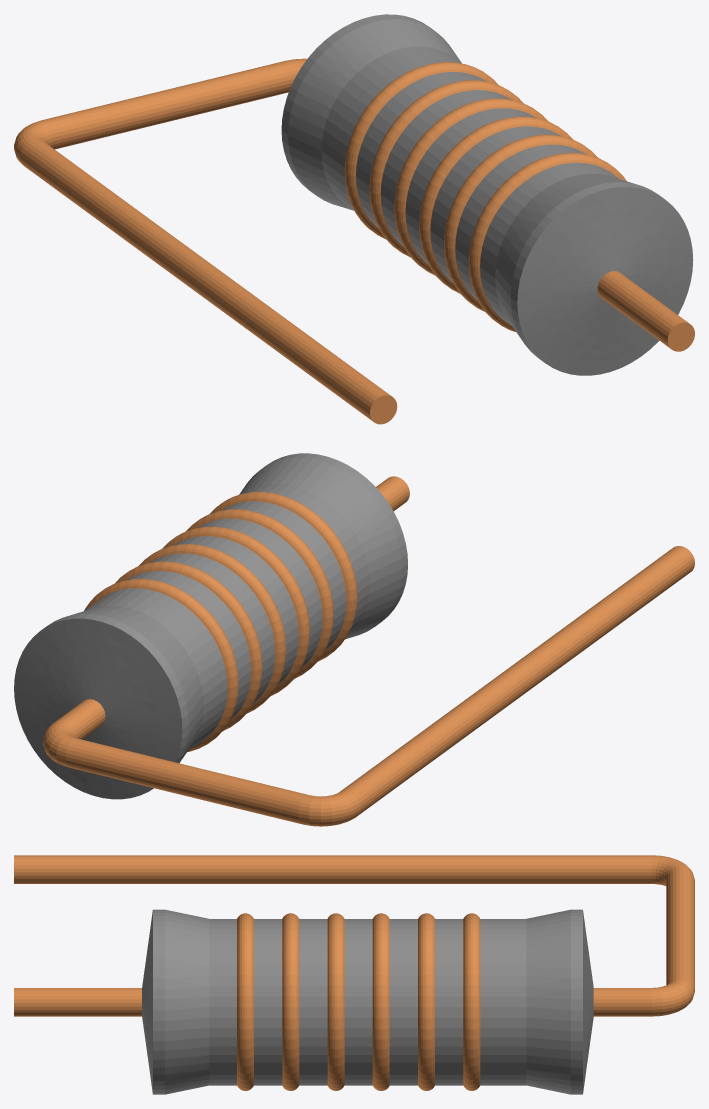
Rendered from L_Axial_L11.0mm_D4.5mm_P7.62mm_Vertical_Fastron_MECC.glb.
The picture shows the model from 3 angles, top to bottom: view 1: azimuth 30°, elevation 25°; view 2: azimuth 150°, elevation 25°; view 3: azimuth 270°, elevation 25°; orthographic projection. The views are drawn at different scales.
Visible parts, largest first — view 1: Shape_IndexedFaceSet.002, Shape_IndexedFaceSet.025, Shape_IndexedFaceSet.018, Shape_IndexedFaceSet.023, Shape_IndexedFaceSet.017, Shape_IndexedFaceSet.004, Shape_IndexedFaceSet.005, Shape_IndexedFaceSet.011, Shape_IndexedFaceSet.006, Shape_IndexedFaceSet.007, Shape_IndexedFaceSet.015, Shape_IndexedFaceSet.013 (+12 smaller); view 2: Shape_IndexedFaceSet.020, Shape_IndexedFaceSet.025, Shape_IndexedFaceSet.004, Shape_IndexedFaceSet.023, Shape_IndexedFaceSet.017, Shape_IndexedFaceSet.018, Shape_IndexedFaceSet.016, Shape_IndexedFaceSet.009, Shape_IndexedFaceSet.007, Shape_IndexedFaceSet.015, Shape_IndexedFaceSet.013, Shape_IndexedFaceSet.011 (+12 smaller); view 3: Shape_IndexedFaceSet.025, Shape_IndexedFaceSet.018, Shape_IndexedFaceSet.004, Shape_IndexedFaceSet.017, Shape_IndexedFaceSet.007, Shape_IndexedFaceSet.009, Shape_IndexedFaceSet.011, Shape_IndexedFaceSet.013, Shape_IndexedFaceSet.015, Shape_IndexedFaceSet.005, Shape_IndexedFaceSet.001, Shape_IndexedFaceSet.023 (+13 smaller).
Part boxes in pixels (bbox=[...]): Shape_IndexedFaceSet.002: bbox=[517, 187, 693, 375]; Shape_IndexedFaceSet.025: bbox=[20, 139, 390, 421]; Shape_IndexedFaceSet.018: bbox=[288, 19, 461, 210]; Shape_IndexedFaceSet.023: bbox=[42, 61, 295, 149]; Shape_IndexedFaceSet.017: bbox=[321, 46, 461, 210]; Shape_IndexedFaceSet.004: bbox=[495, 173, 634, 340]; Shape_IndexedFaceSet.005: bbox=[480, 162, 619, 325]; Shape_IndexedFaceSet.011: bbox=[405, 108, 535, 264]; Shape_IndexedFaceSet.006: bbox=[468, 153, 626, 331]; Shape_IndexedFaceSet.007: bbox=[455, 144, 585, 300]; Shape_IndexedFaceSet.015: bbox=[356, 72, 486, 228]; Shape_IndexedFaceSet.013: bbox=[380, 90, 511, 246]; Shape_IndexedFaceSet.020: bbox=[14, 618, 182, 799]; Shape_IndexedFaceSet.025: bbox=[340, 546, 694, 815]; Shape_IndexedFaceSet.004: bbox=[239, 458, 401, 639]; Shape_IndexedFaceSet.023: bbox=[65, 738, 307, 823]; Shape_IndexedFaceSet.017: bbox=[84, 588, 227, 751]; Shape_IndexedFaceSet.018: bbox=[70, 606, 203, 762]; Shape_IndexedFaceSet.016: bbox=[84, 579, 238, 751]; Shape_IndexedFaceSet.009: bbox=[198, 518, 322, 668]; Shape_IndexedFaceSet.007: bbox=[222, 501, 346, 651]; Shape_IndexedFaceSet.015: bbox=[126, 570, 251, 720]; Shape_IndexedFaceSet.013: bbox=[150, 553, 275, 703]; Shape_IndexedFaceSet.011: bbox=[174, 536, 298, 685]; Shape_IndexedFaceSet.025: bbox=[14, 855, 651, 883]; Shape_IndexedFaceSet.018: bbox=[526, 909, 570, 1094]; Shape_IndexedFaceSet.004: bbox=[165, 909, 209, 1094]; Shape_IndexedFaceSet.017: bbox=[480, 919, 526, 1085]; Shape_IndexedFaceSet.007: bbox=[254, 919, 282, 1085]; Shape_IndexedFaceSet.009: bbox=[299, 919, 327, 1085]; Shape_IndexedFaceSet.011: bbox=[344, 919, 372, 1085]; Shape_IndexedFaceSet.013: bbox=[389, 919, 417, 1085]; Shape_IndexedFaceSet.015: bbox=[435, 919, 463, 1085]; Shape_IndexedFaceSet.005: bbox=[209, 919, 236, 1085]; Shape_IndexedFaceSet.001: bbox=[14, 988, 141, 1016]; Shape_IndexedFaceSet.023: bbox=[666, 869, 694, 987].
Size of the model in its own units: 4.02 by 1.77 by 6.51.
